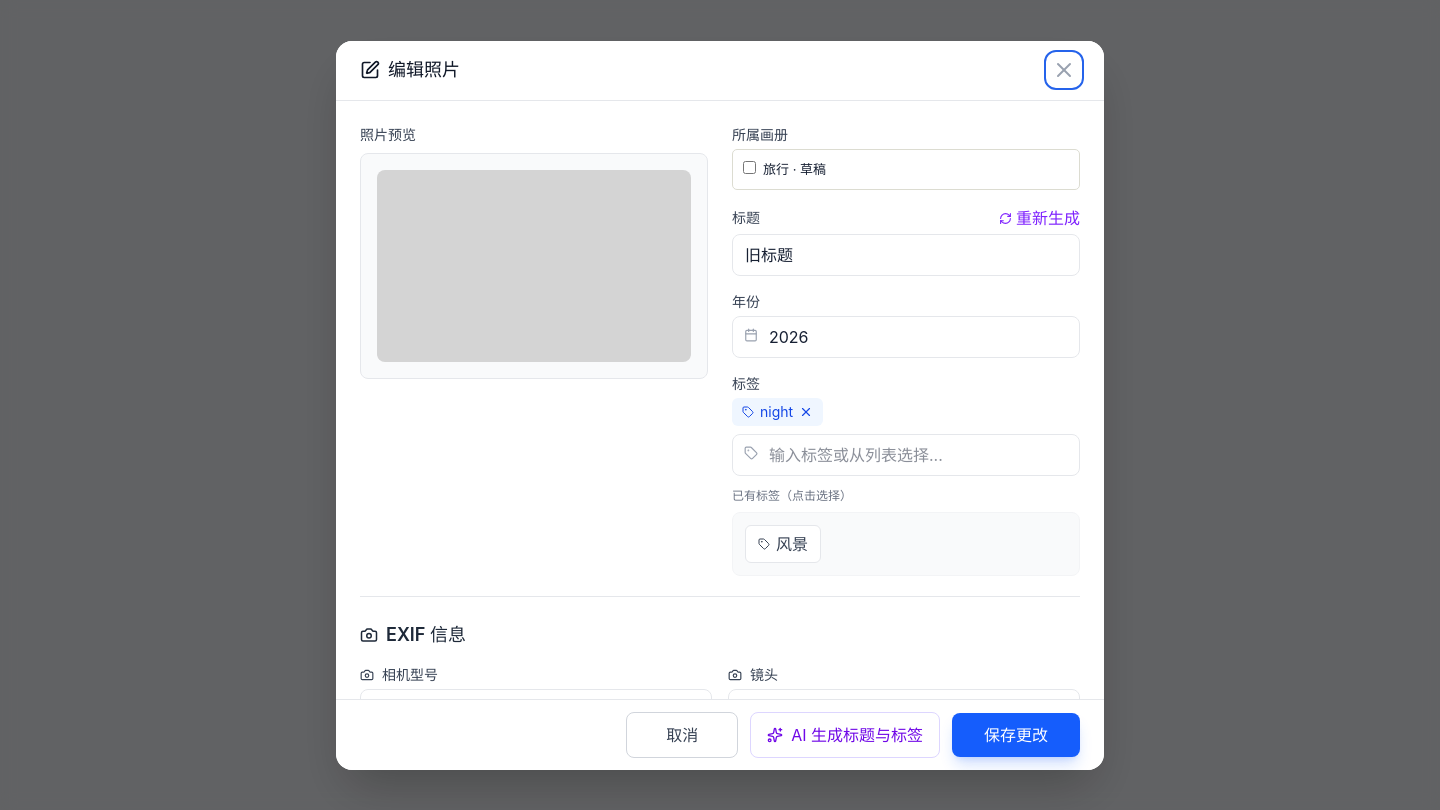
Scenario: PhotoModal edit mode › regenerates an existing photo title without changing tags or saving
This screenshot has width=1440, height=810.
Click the button with aria-label "重新生成标题" at (1040, 218), box [999,206,1080,230]
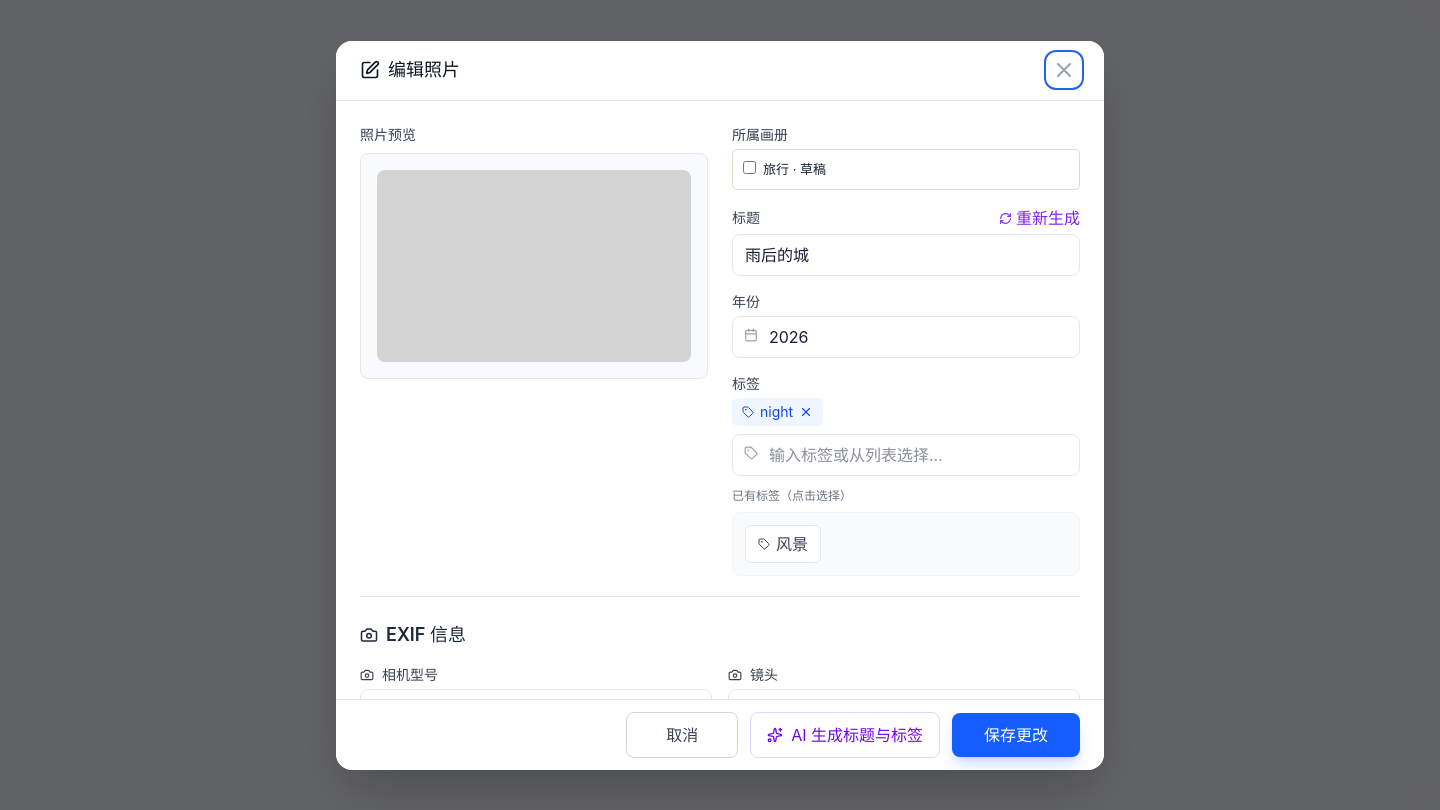
Expected: the text "night" is shown, [760,402,793,422]
Now the field named "标题" holds "雨后的城", box [732,234,1080,276]
